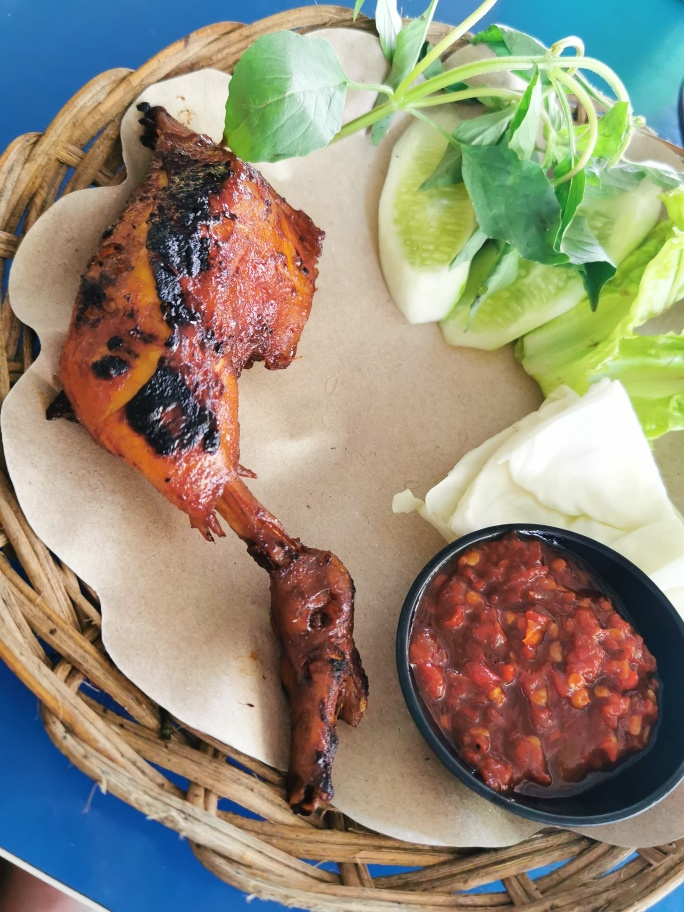ayam bakar: (52, 87, 414, 818)
